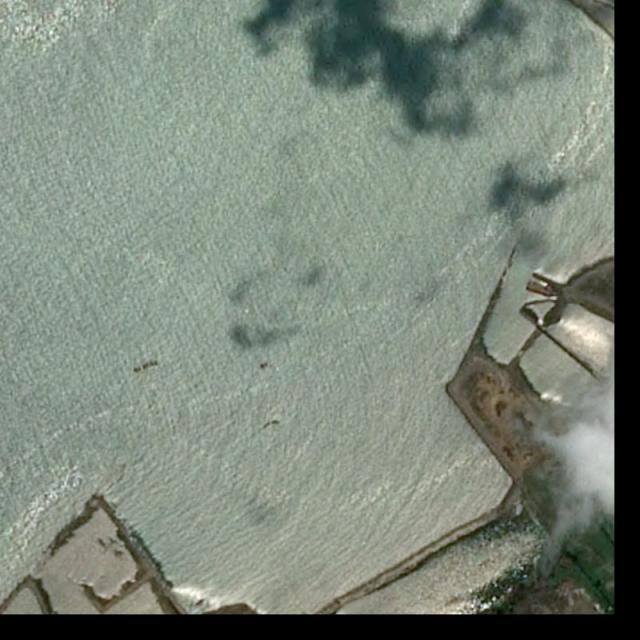ship: (133, 359, 159, 374), (259, 362, 270, 369), (263, 422, 271, 430), (272, 421, 282, 425)
